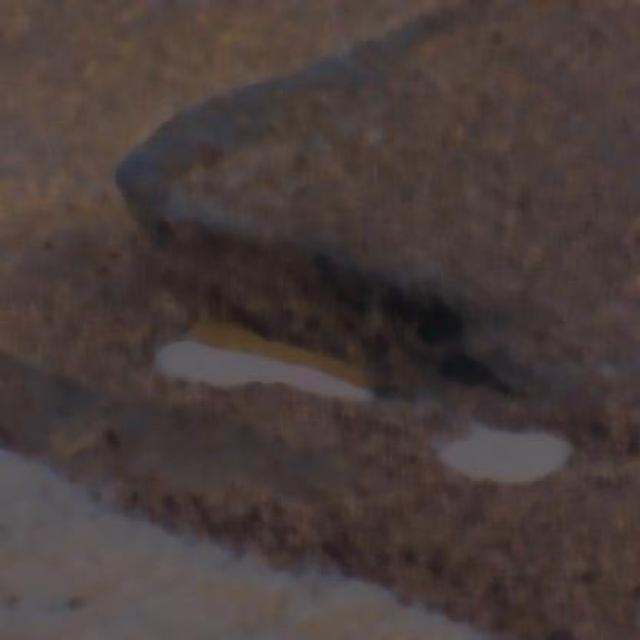Pothole: (163, 296, 377, 404), (420, 395, 574, 474)
